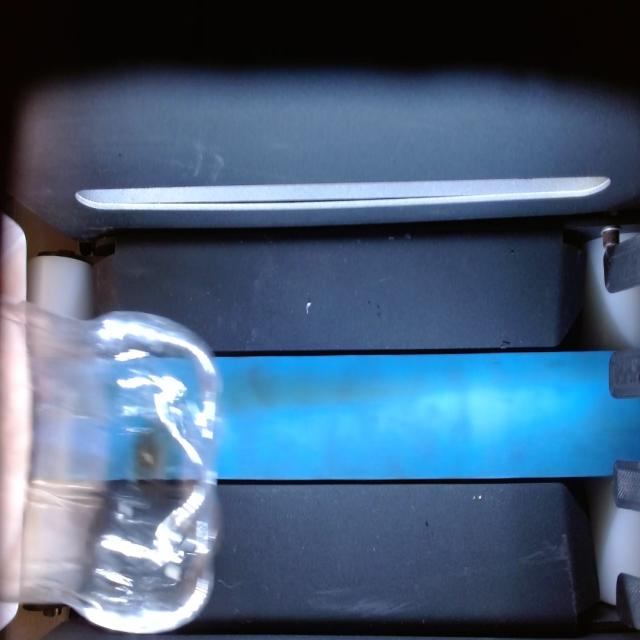bottom: (0, 300, 219, 633)
